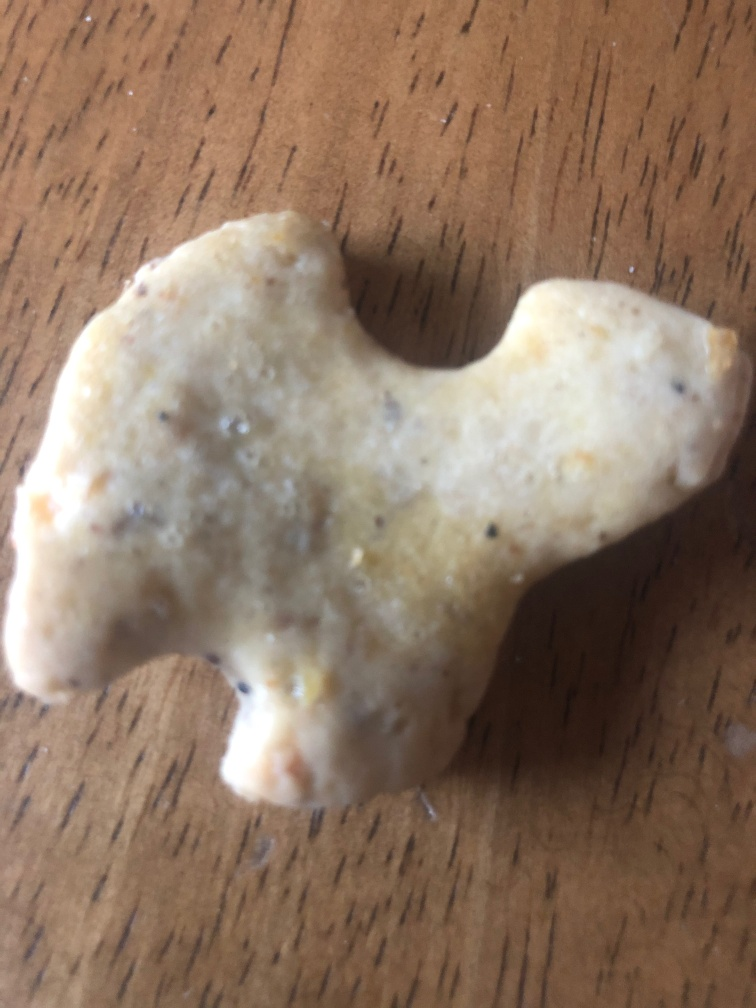lamb: (6, 207, 754, 810)
